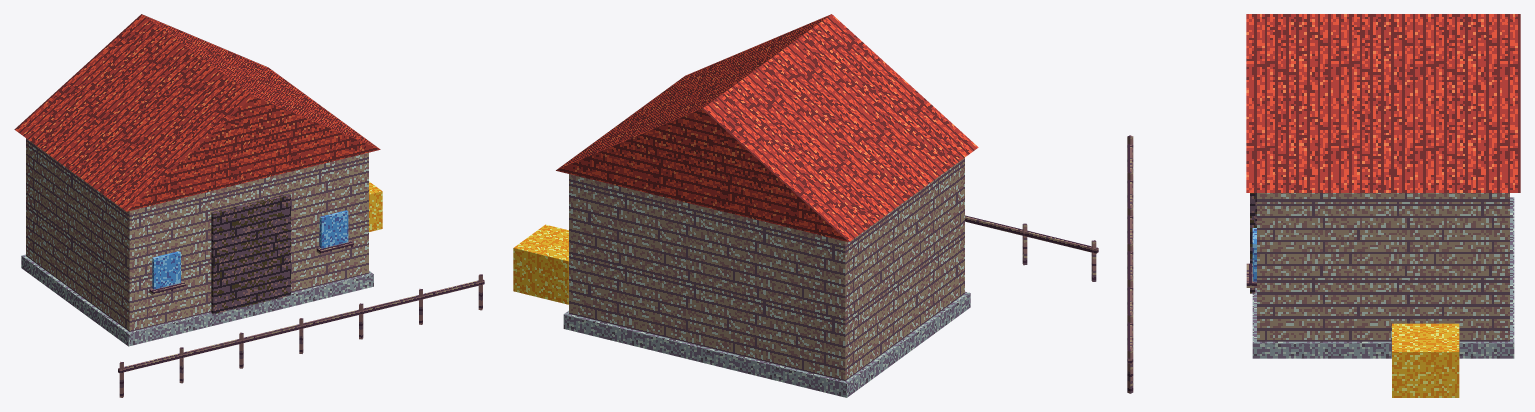
Rendered from quinta_hana.glb.
The picture shows the model from 3 angles, left to right: view 1: azimuth 30°, elevation 25°; view 2: azimuth 150°, elevation 25°; view 3: azimuth 270°, elevation 25°; orthographic projection. The views are drawn at different scales.
Parts seen in each view (by area): view 1: quinta_hana; view 2: quinta_hana; view 3: quinta_hana.
Boxes of the visible parts, <box> form: quinta_hana: <box>14,14,484,397</box>; quinta_hana: <box>513,14,1098,397</box>; quinta_hana: <box>1127,14,1520,397</box>.
Size of the model in its own units: 12.4 by 7.1 by 9.32.
Materials: 7 (7 with a texture image).
